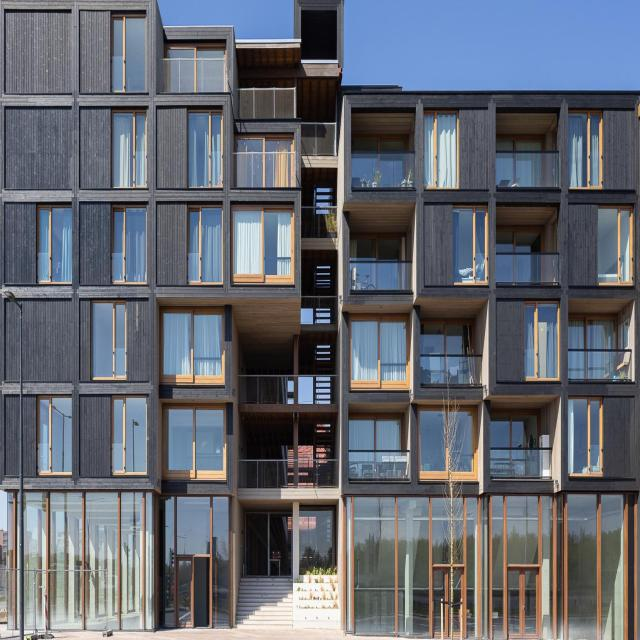Railing: (238, 372, 339, 407), (238, 458, 339, 487), (352, 150, 418, 191), (498, 147, 559, 189), (160, 58, 226, 91), (495, 252, 560, 285), (350, 259, 412, 292), (420, 354, 483, 386), (568, 349, 631, 380), (349, 450, 410, 482), (236, 87, 296, 119), (490, 448, 553, 478), (304, 122, 338, 158)
door: (244, 511, 292, 579), (505, 564, 542, 640), (176, 553, 213, 627), (431, 569, 465, 639)
windows: (348, 495, 638, 639), (8, 494, 232, 630), (231, 205, 295, 286), (348, 313, 409, 391), (165, 404, 225, 483), (162, 311, 226, 385), (420, 401, 476, 483), (112, 391, 149, 479), (524, 301, 563, 379), (92, 300, 128, 382), (113, 108, 149, 190), (423, 114, 460, 191), (598, 203, 632, 286), (236, 141, 296, 188), (113, 16, 148, 96), (168, 45, 227, 92), (112, 203, 146, 284), (570, 397, 604, 478), (453, 207, 488, 285), (38, 396, 71, 475), (38, 205, 72, 281), (189, 206, 222, 284), (570, 112, 602, 192), (189, 112, 221, 190), (300, 512, 338, 574), (349, 413, 404, 451), (490, 413, 537, 450), (419, 322, 473, 354), (568, 315, 616, 348), (353, 237, 404, 262)
